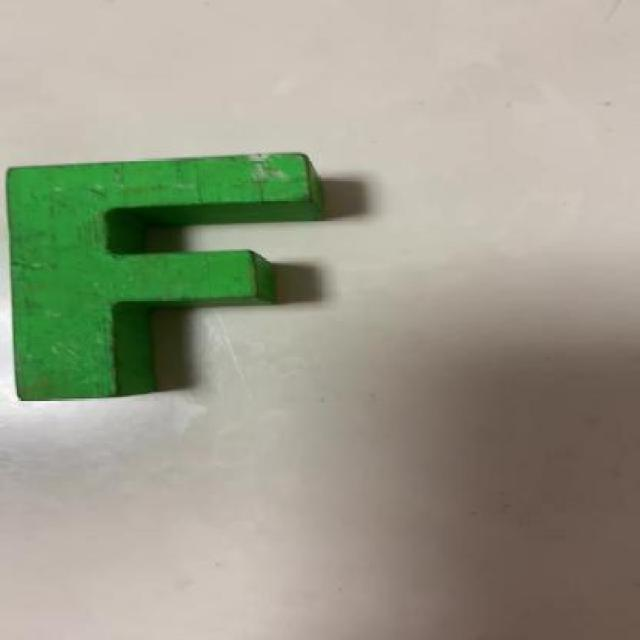F: (8, 153, 340, 398)
